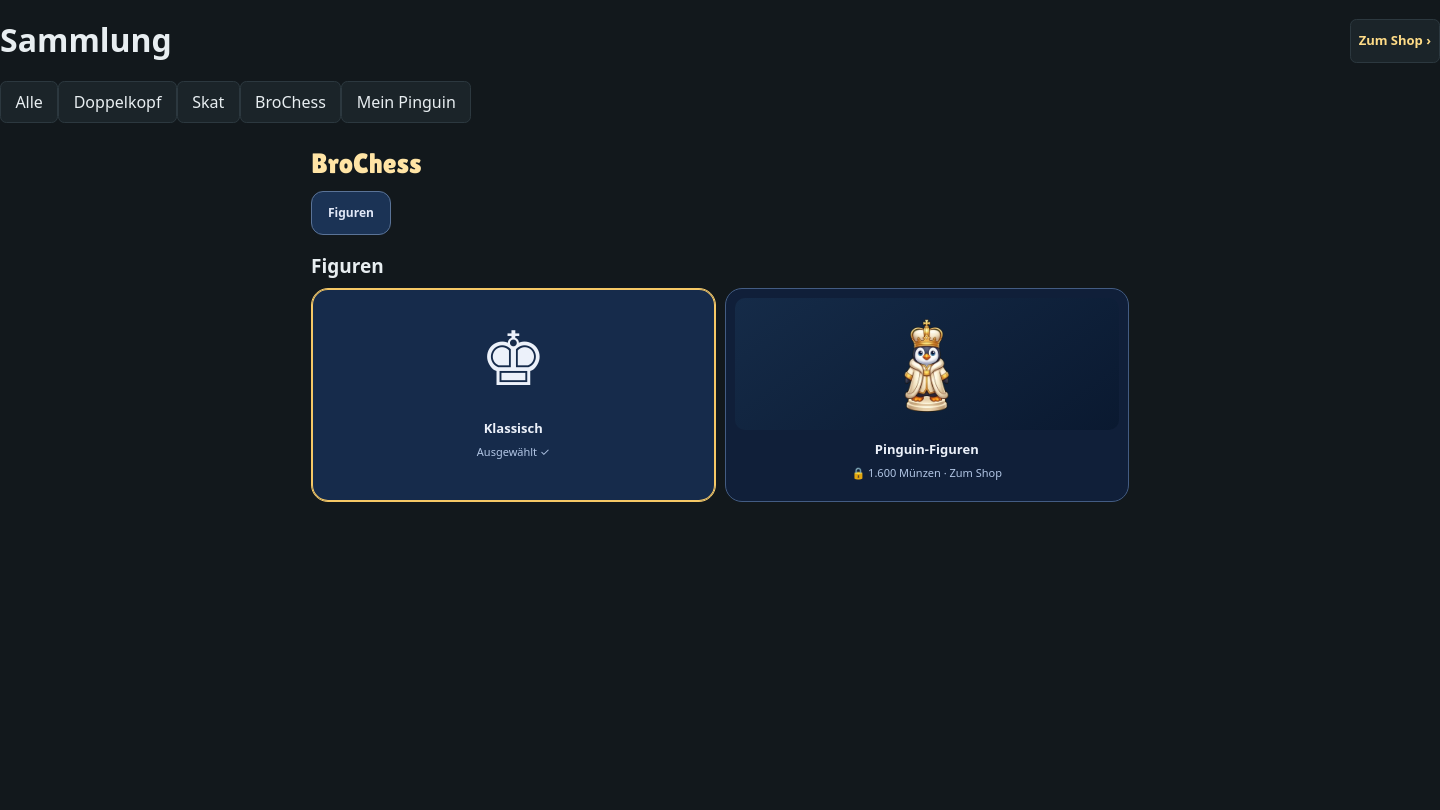
Scenario: sperrt den BroChess-Pinguinsatz und zeigt den regulären Preis
Click the button "Pinguin-Figuren 🔒 1.600 Münzen · Zum Shop" at (927, 395), box [724, 288, 1129, 502]
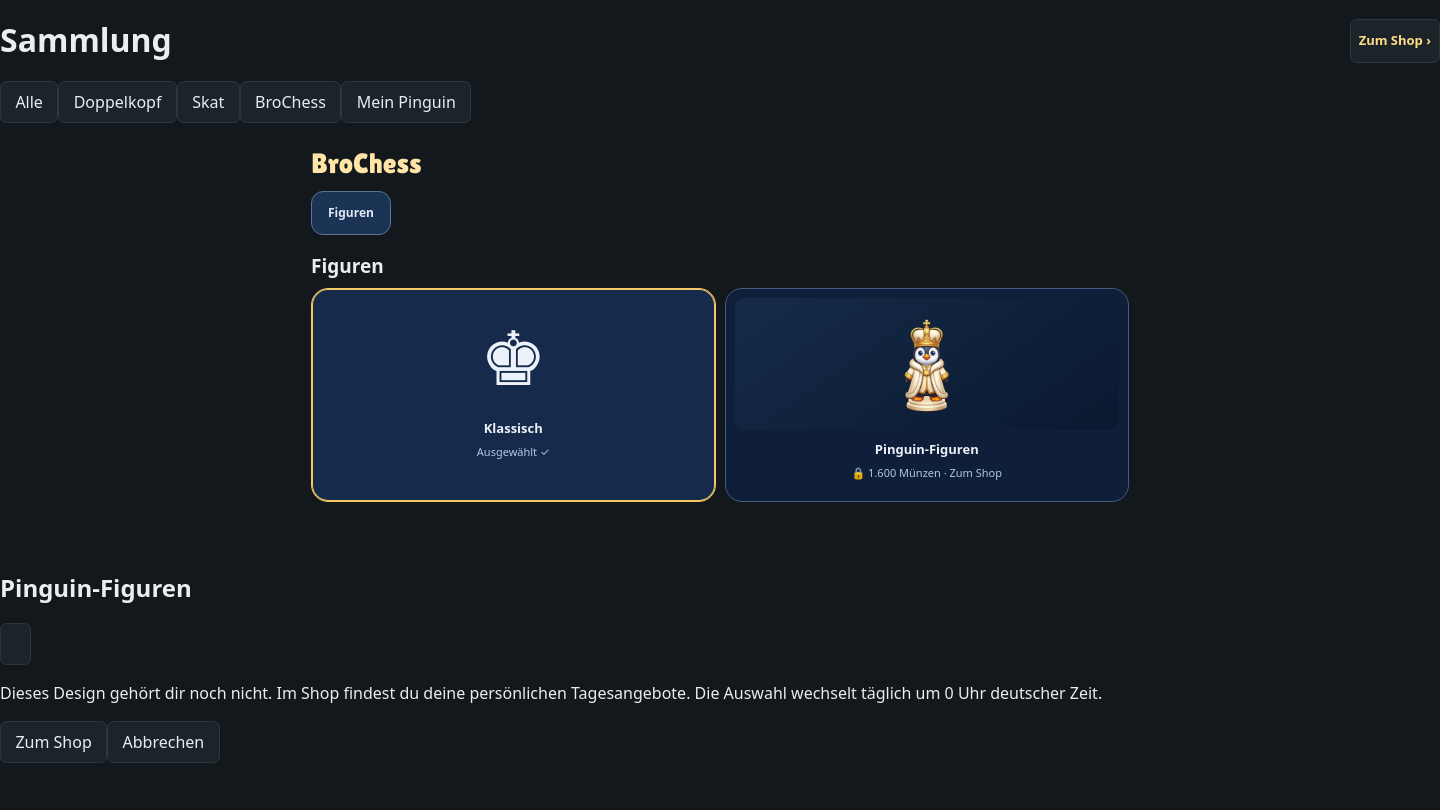
Check: the dialog "Pinguin-Figuren" is shown, box [0, 571, 1102, 763]
